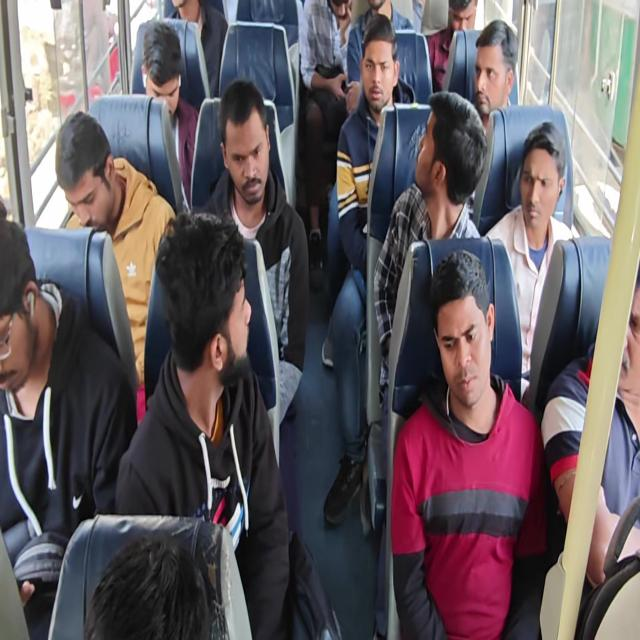person: (1, 1, 638, 638), (114, 210, 292, 638), (390, 248, 548, 638), (0, 216, 138, 638), (322, 13, 414, 526), (198, 78, 309, 425), (55, 110, 176, 417), (373, 90, 487, 408), (541, 262, 639, 589), (484, 120, 578, 401), (336, 13, 414, 276), (406, 20, 519, 164), (298, 0, 354, 289), (84, 530, 213, 639), (140, 20, 199, 211), (466, 19, 519, 225), (167, 0, 228, 98), (346, 0, 415, 86), (472, 19, 518, 132), (426, 0, 478, 92)
